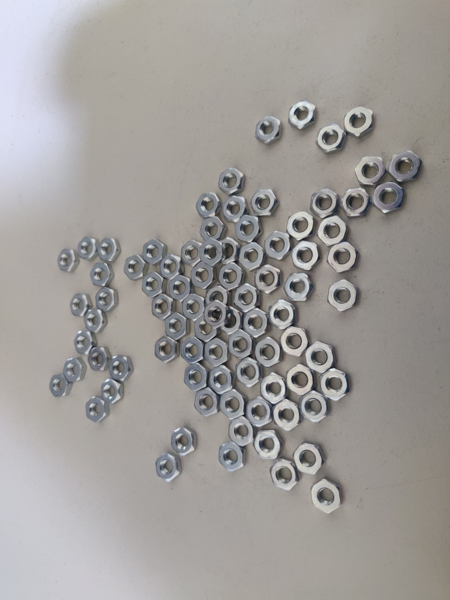nut: (305, 341, 339, 375), (312, 479, 343, 514), (295, 442, 326, 476), (371, 183, 406, 213), (274, 398, 303, 433), (390, 153, 425, 182), (355, 157, 387, 188), (254, 429, 284, 462), (343, 107, 375, 137), (328, 281, 358, 312), (328, 243, 359, 273), (321, 370, 350, 402), (281, 327, 310, 359), (246, 396, 275, 427), (342, 188, 371, 219), (235, 357, 262, 390), (311, 190, 341, 219), (218, 167, 248, 196), (271, 460, 299, 491), (287, 364, 315, 395), (219, 442, 248, 471), (255, 338, 284, 367), (292, 242, 322, 270), (302, 392, 329, 423), (317, 218, 348, 245), (289, 102, 320, 129), (156, 453, 182, 485), (252, 187, 278, 219), (233, 284, 262, 312), (234, 213, 262, 242), (287, 212, 317, 239), (265, 232, 293, 260), (284, 274, 313, 301), (236, 243, 265, 270), (171, 427, 197, 457), (243, 308, 269, 338), (254, 117, 284, 143), (195, 389, 221, 418), (228, 331, 254, 360), (271, 300, 297, 329), (164, 313, 190, 342), (316, 124, 343, 151), (218, 264, 245, 291), (180, 338, 206, 366), (194, 192, 220, 220), (240, 242, 265, 271), (262, 373, 286, 403), (215, 237, 239, 267), (221, 390, 246, 418), (199, 239, 224, 267), (222, 194, 247, 222), (211, 365, 233, 396), (141, 240, 167, 266), (108, 355, 134, 381), (230, 417, 255, 444), (257, 266, 282, 293), (199, 216, 226, 241), (205, 340, 230, 366), (185, 364, 210, 390), (168, 277, 194, 302), (160, 253, 184, 280), (86, 398, 110, 425), (90, 262, 117, 286), (191, 264, 215, 290), (56, 248, 80, 274), (155, 337, 178, 364), (124, 256, 147, 283), (195, 316, 219, 341), (97, 237, 121, 262), (205, 300, 228, 326), (84, 308, 107, 334), (101, 381, 125, 405), (75, 237, 99, 261), (152, 295, 177, 318), (220, 309, 243, 334), (184, 294, 206, 320), (143, 273, 164, 299), (182, 240, 203, 266), (64, 357, 87, 380), (206, 287, 230, 309), (69, 294, 91, 318), (49, 375, 71, 397), (74, 331, 96, 353), (95, 289, 119, 309)
